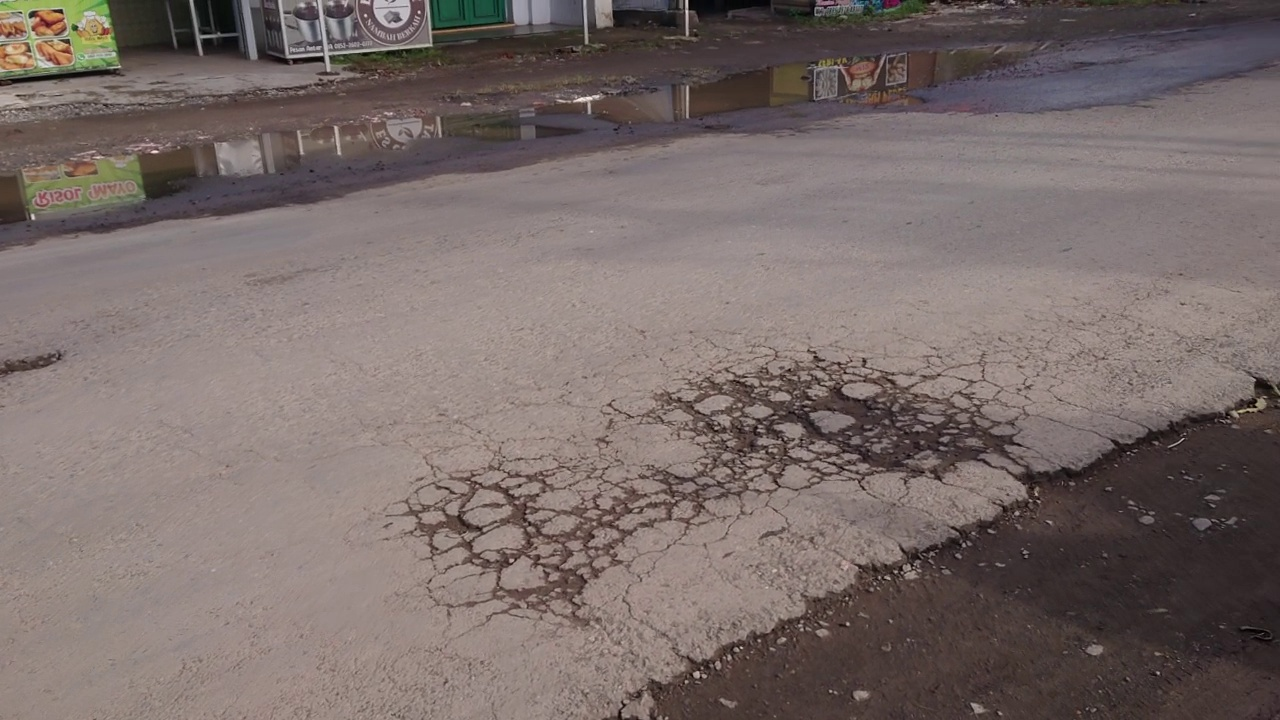Retak: (449, 353, 985, 613), (996, 286, 1196, 416)
